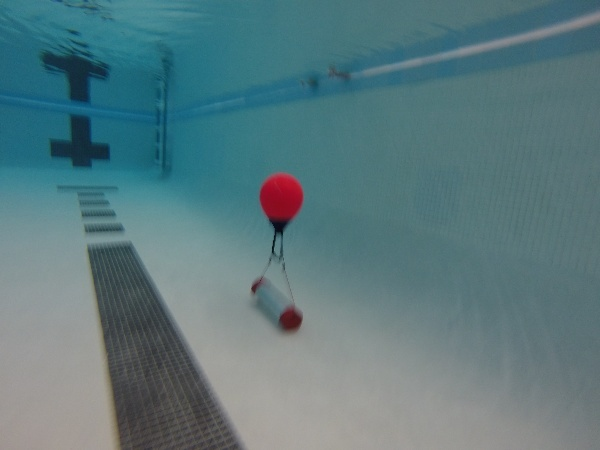buoy_red: (255, 171, 307, 234)
